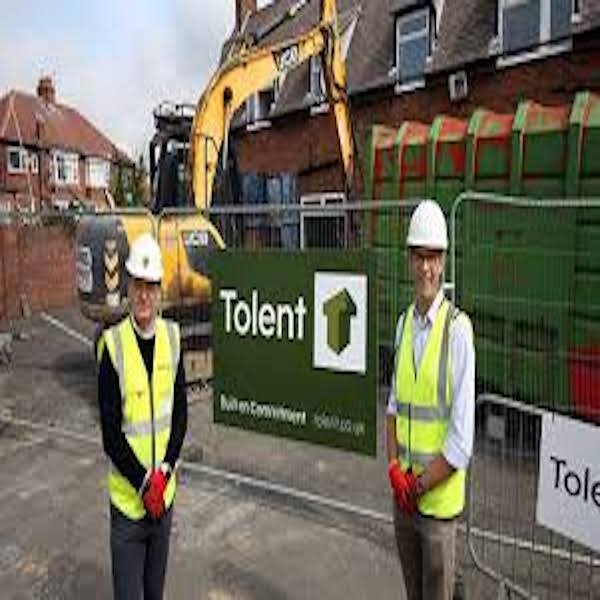helmet: (406, 201, 452, 251), (128, 234, 166, 282)
vest: (99, 319, 186, 512), (395, 300, 468, 518)
